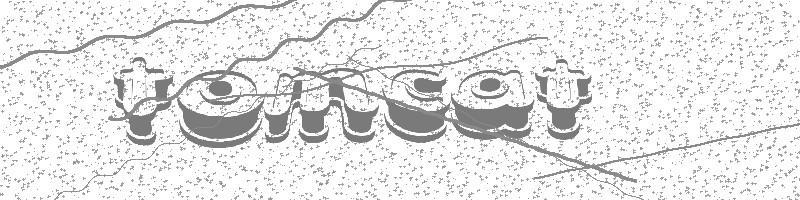a: (454, 67, 536, 141)
c: (380, 65, 451, 144)
m: (262, 64, 384, 144)
o: (174, 68, 267, 150)
t: (108, 52, 178, 145), (533, 54, 594, 141)
